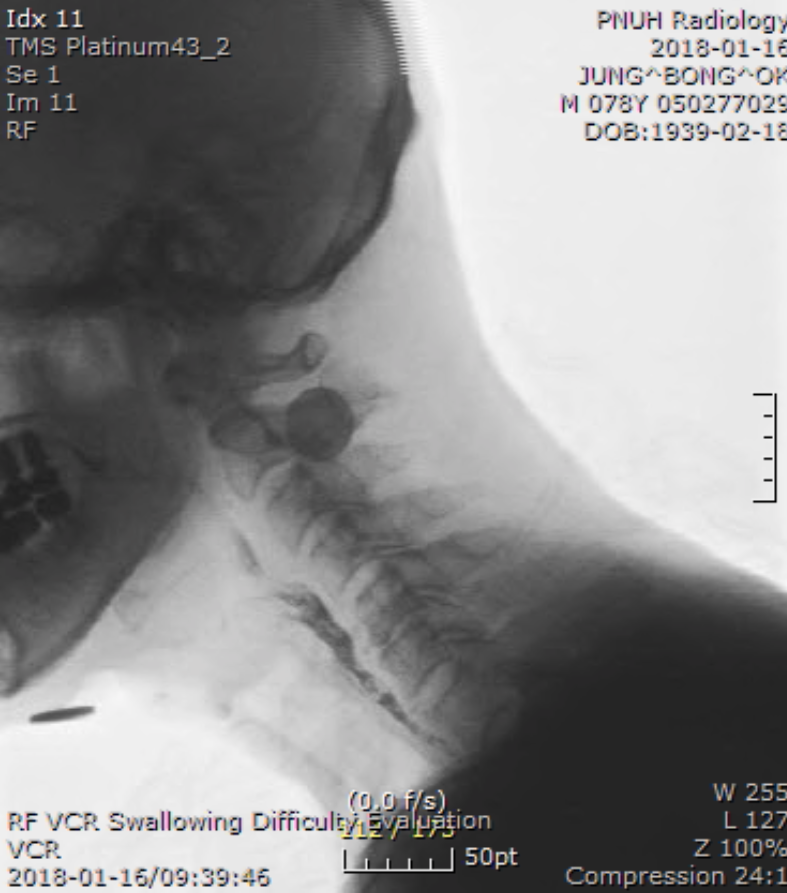food: (259, 573, 409, 725)
